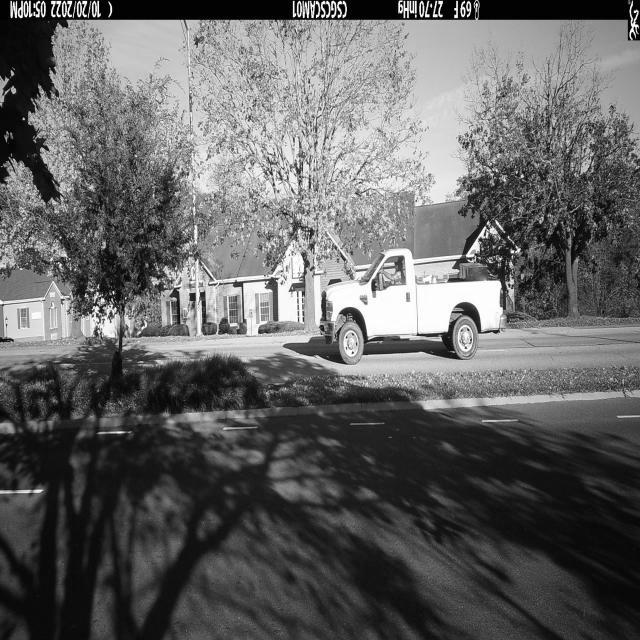Pickup: (320, 249, 505, 364)
